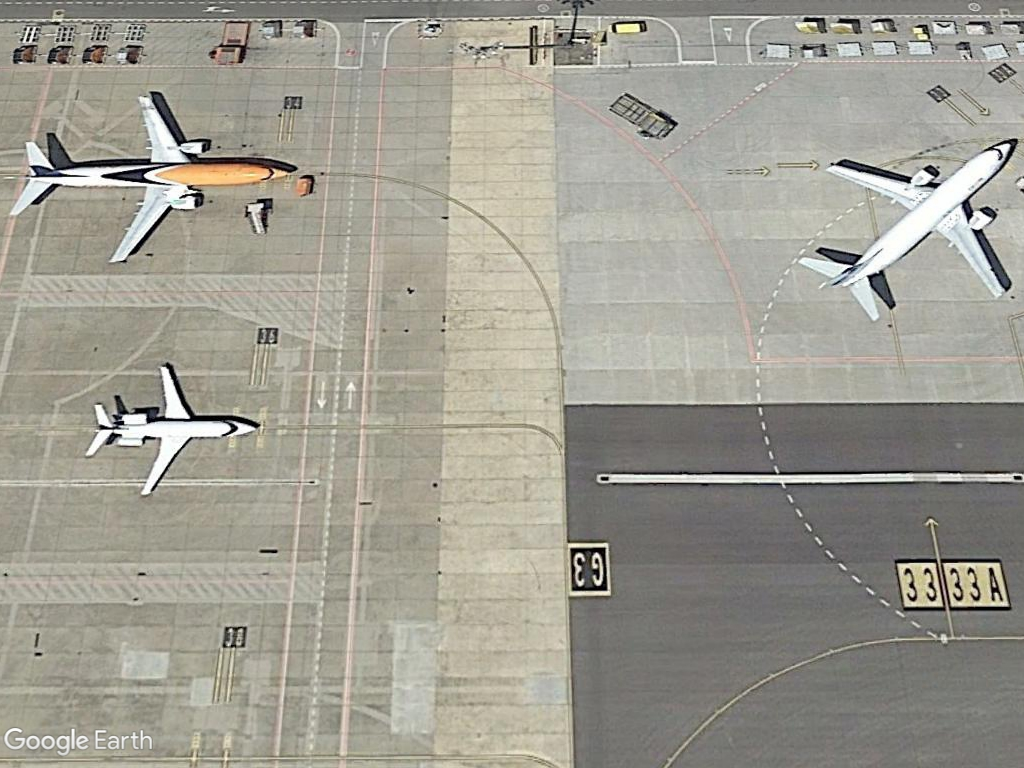airliner: (6, 83, 298, 275), (796, 112, 1023, 326)
chartered: (79, 361, 262, 499)
stairtruck: (239, 197, 278, 242)
